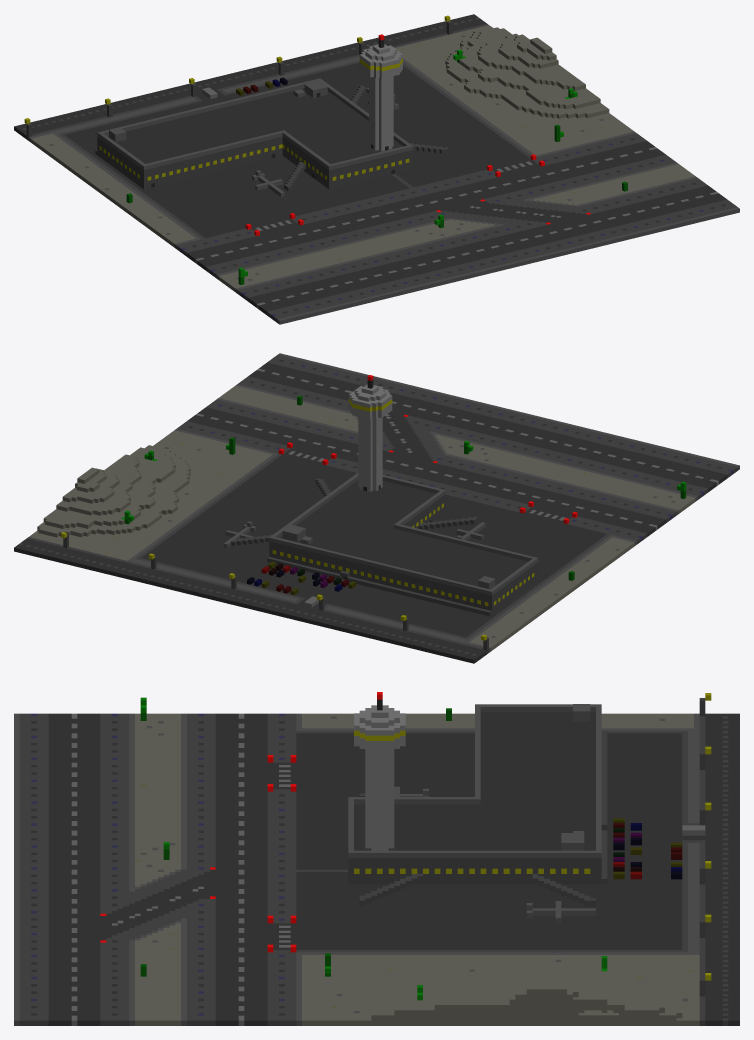
Rendered from terrain_with_tower.obj.
The picture shows the model from 3 angles, top to bottom: view 1: azimuth 30°, elevation 25°; view 2: azimuth 150°, elevation 25°; view 3: azimuth 270°, elevation 25°; orthographic projection. The views are drawn at different scales.
Size of the model in its own units: 126 by 35 by 126.
Materials: 1 (1 with a texture image).
